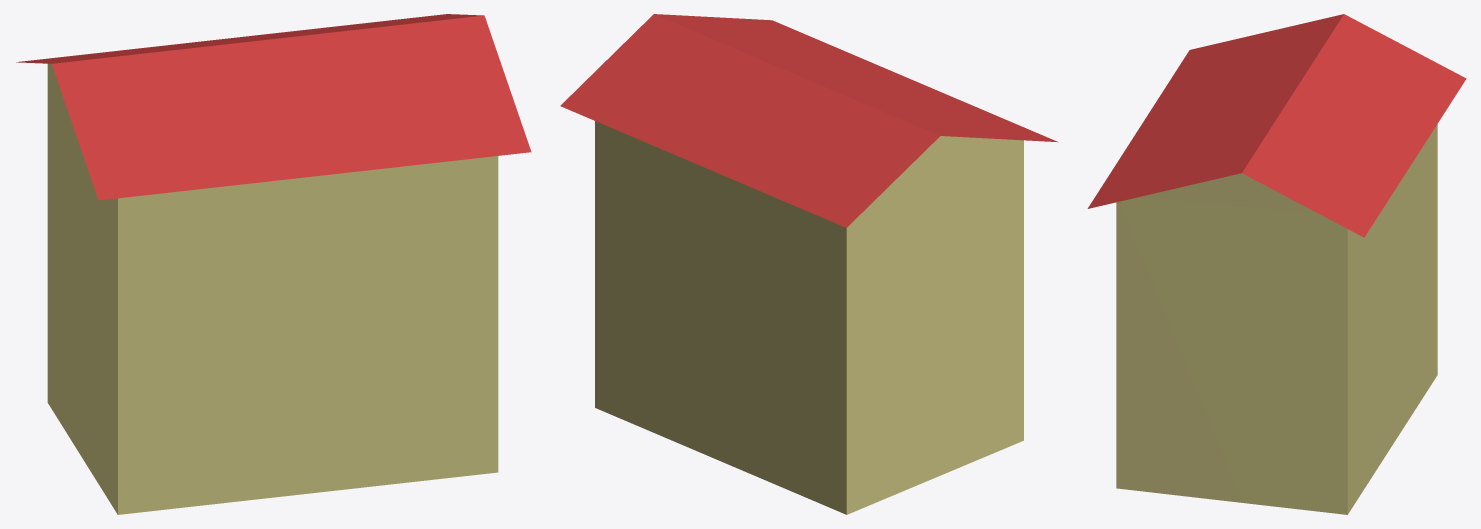
The picture shows the model from 3 angles, left to right: view 1: azimuth 30°, elevation 25°; view 2: azimuth 150°, elevation 25°; view 3: azimuth 270°, elevation 25°; orthographic projection. The views are drawn at different scales.
Size of the model in its own units: 14.34 by 12.03 by 11.9.
